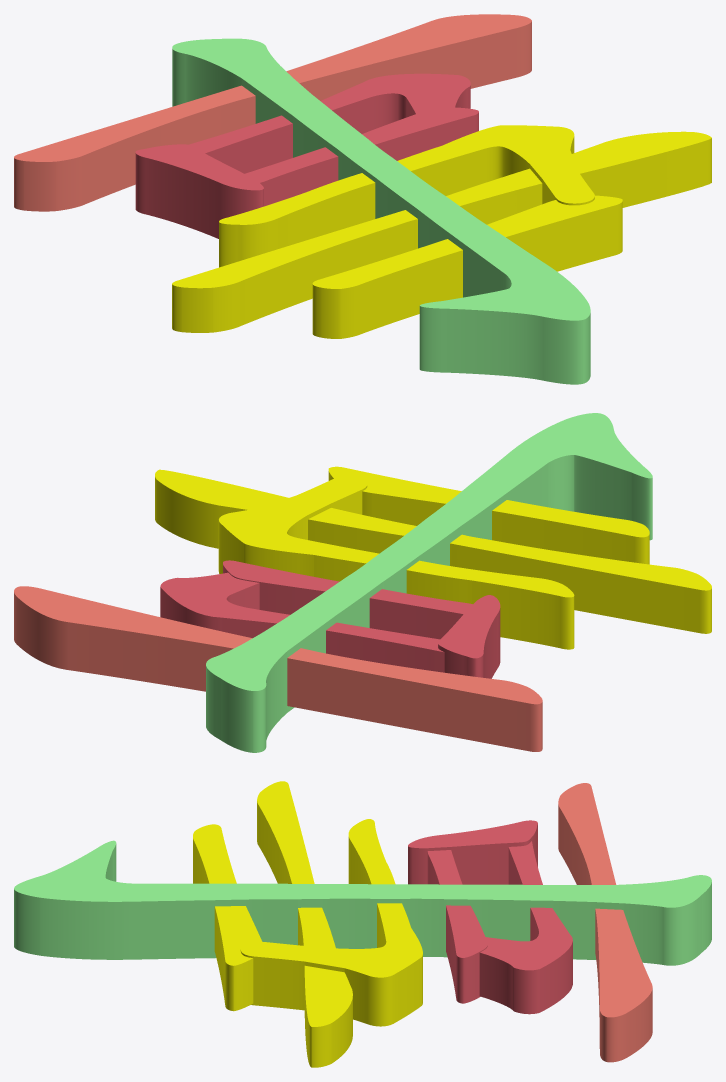
The model's file is hanzi19.fbx.
The picture shows the model from 3 angles, top to bottom: view 1: azimuth 30°, elevation 25°; view 2: azimuth 150°, elevation 25°; view 3: azimuth 270°, elevation 25°; orthographic projection. The views are drawn at different scales.
Visible parts, largest first — view 1: Curve.007, Curve, Curve.005, Curve.004, Curve.006, Curve.002, Curve.001, Curve.003; view 2: Curve.007, Curve, Curve.005, Curve.004, Curve.006, Curve.002, Curve.003, Curve.001; view 3: Curve.007, Curve.004, Curve, Curve.005, Curve.002, Curve.006, Curve.001, Curve.003.
Boxes of the visible parts, box(x1,y1,x2,y2) form: Curve.007: box(172, 38, 590, 384); Curve: box(14, 14, 531, 211); Curve.005: box(172, 131, 711, 332); Curve.004: box(219, 125, 594, 267); Curve.006: box(312, 195, 622, 338); Curve.002: box(188, 73, 470, 173); Curve.001: box(135, 144, 263, 238); Curve.003: box(245, 107, 478, 206); Curve.007: box(206, 413, 652, 752); Curve: box(14, 586, 542, 751); Curve.005: box(155, 469, 711, 633); Curve.004: box(218, 475, 574, 649); Curve.006: box(328, 466, 649, 564); Curve.002: box(160, 572, 444, 672); Curve.003: box(223, 560, 472, 639); Curve.001: box(438, 595, 500, 678); Curve.007: box(14, 840, 711, 965); Curve.004: box(240, 819, 422, 1026); Curve: box(558, 783, 652, 1062); Curve.005: box(257, 781, 352, 1067); Curve.002: box(479, 841, 572, 1014); Curve.006: box(193, 824, 261, 1011); Curve.001: box(408, 820, 537, 884); Curve.003: box(427, 850, 487, 1003).
Size of the model in its own units: 21.74 by 26.09 by 2.39.
